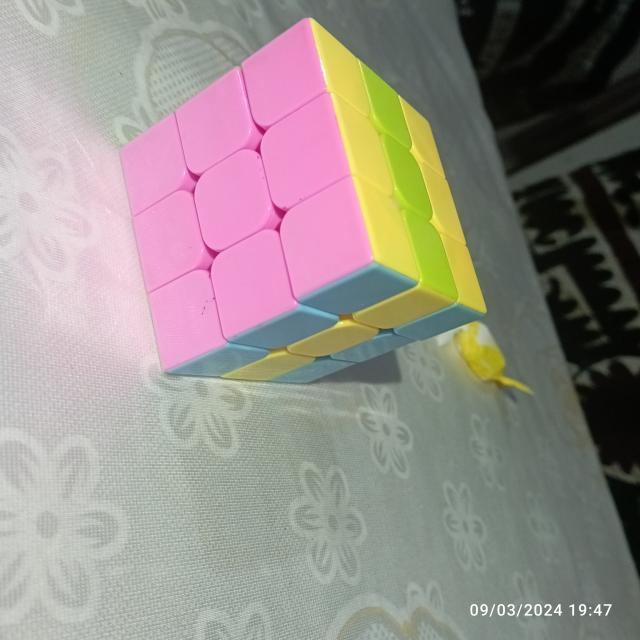Rub: (116, 13, 490, 388)
